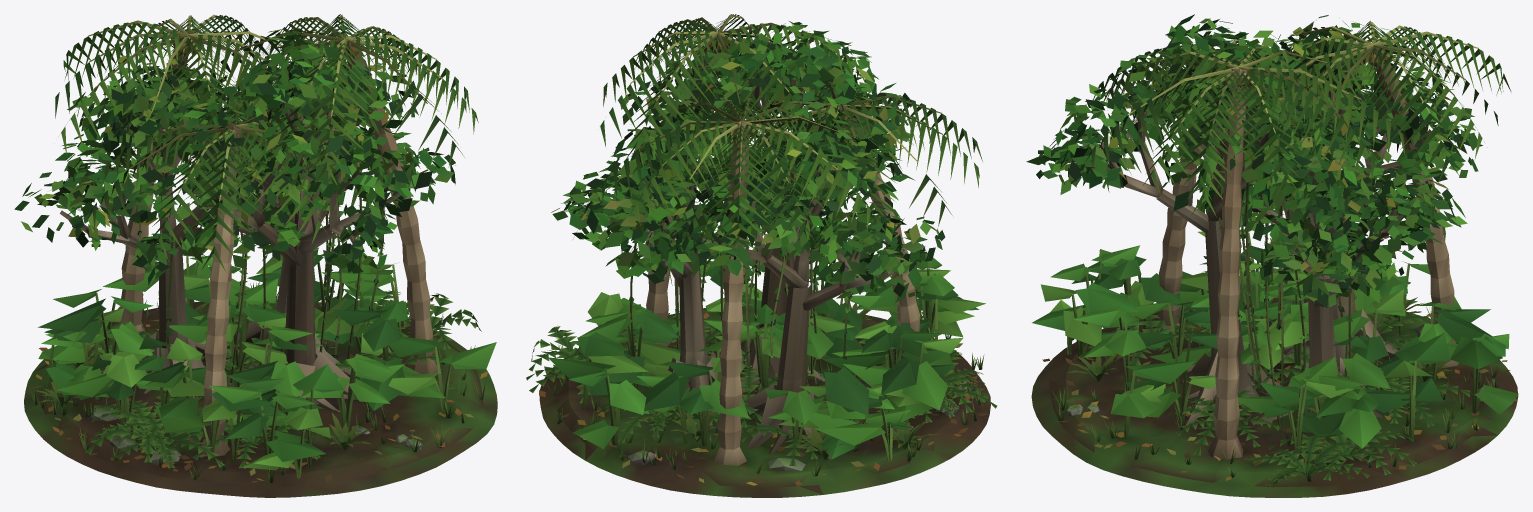
File: jungle.glb
3 renders of one model, left to right at view 1: azimuth 30°, elevation 25°; view 2: azimuth 150°, elevation 25°; view 3: azimuth 270°, elevation 25°, orthographic. The views are drawn at different scales.
Parts seen in each view (by area): view 1: jungle; view 2: jungle; view 3: jungle.
Boxes of the visible parts, <box> form: jungle: <box>14,14,497,497</box>; jungle: <box>526,14,997,497</box>; jungle: <box>1026,14,1518,497</box>.
Size of the model in its own units: 0.9828 by 0.8202 by 0.9727.
